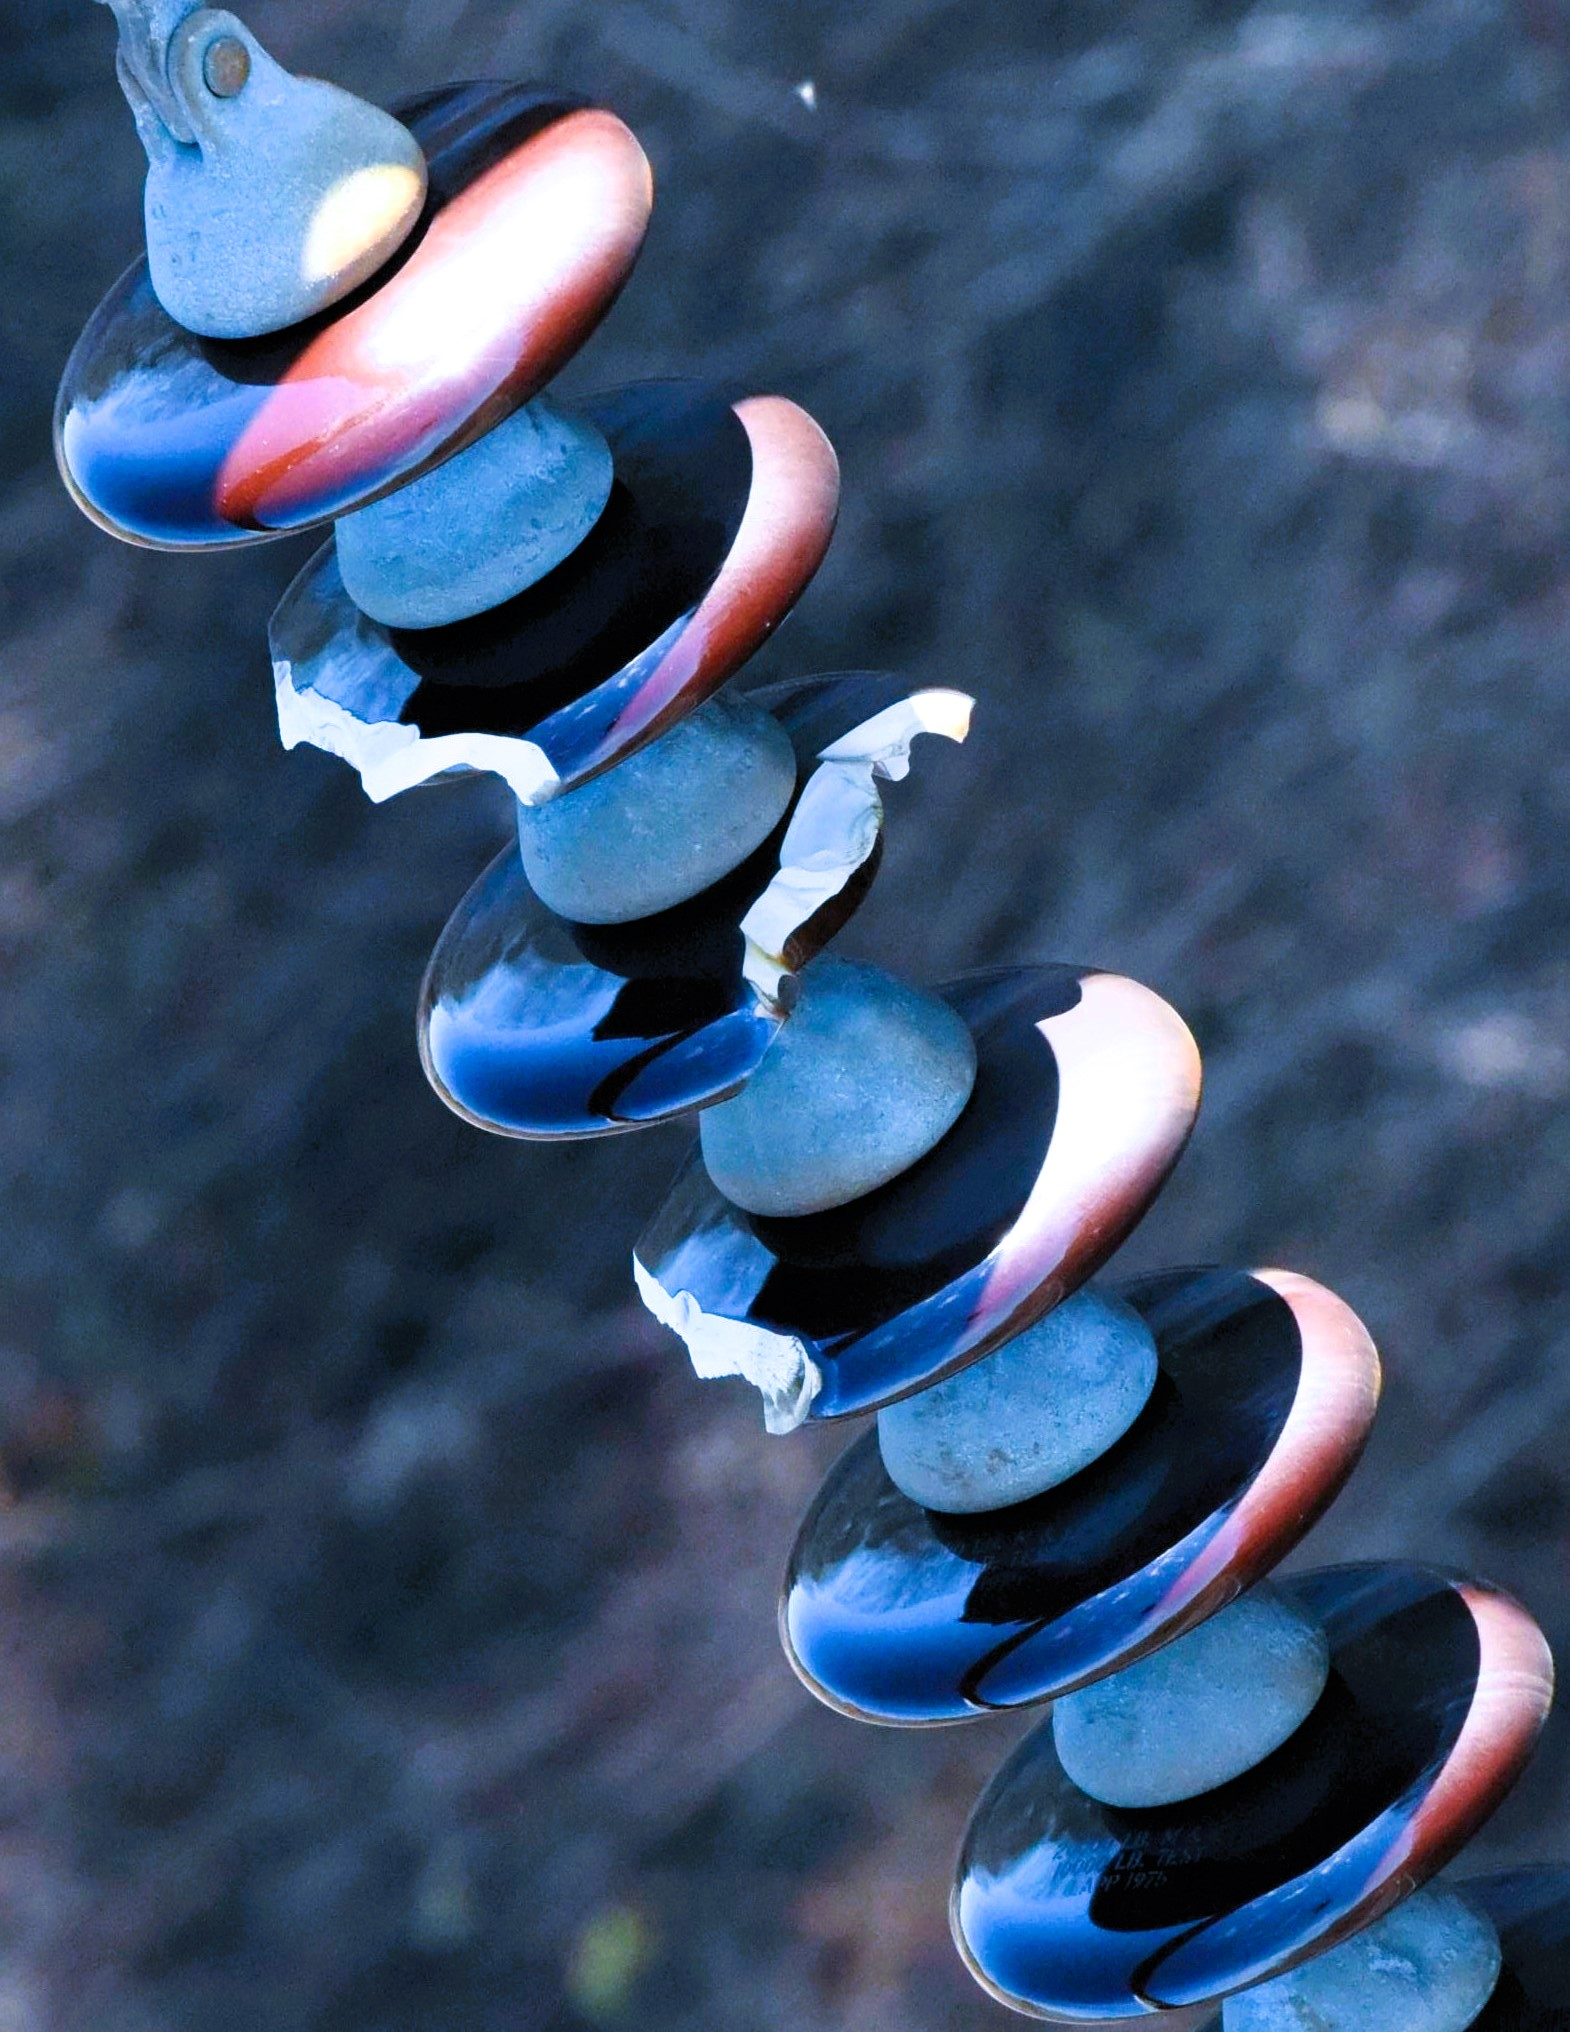insulator breakage: (219, 564, 1177, 1422)
